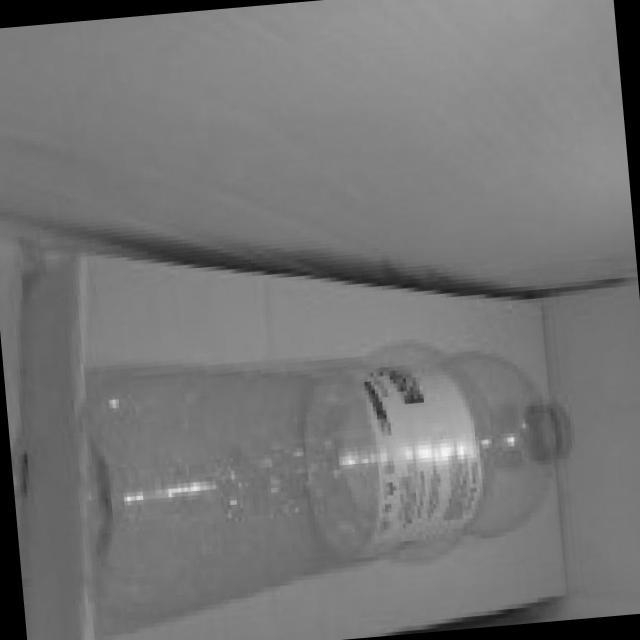good: (46, 280, 604, 636)
